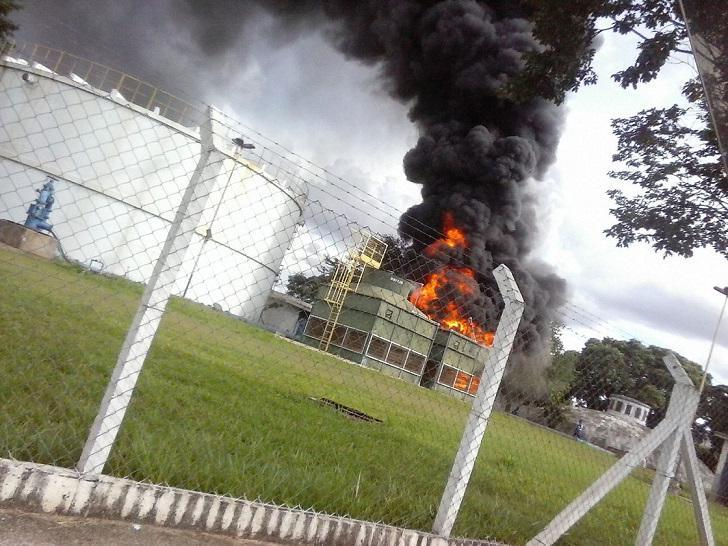Fire: (406, 226, 501, 353)
